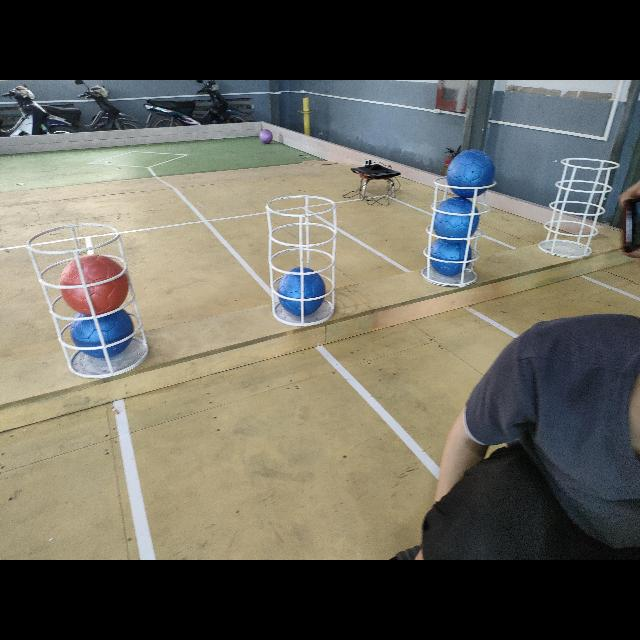B: (72, 308, 128, 356), (276, 266, 324, 318), (444, 150, 496, 196), (432, 196, 478, 242), (426, 235, 470, 272)
R: (61, 255, 126, 311)
